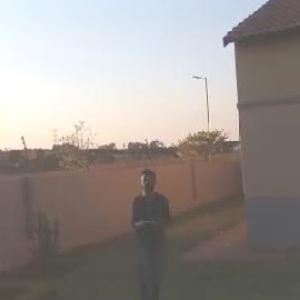follow: (121, 159, 177, 299)
